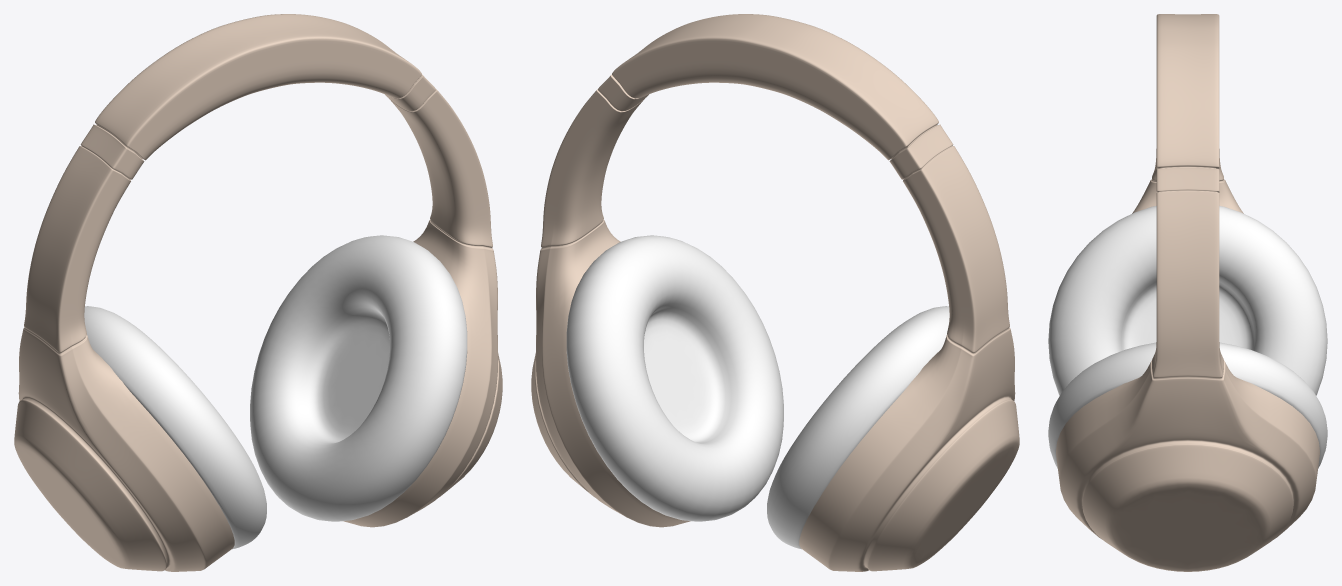
The model's file is headphone_combined.glb.
3 views of the same model, side by side, from view 1: azimuth 30°, elevation 25°; view 2: azimuth 150°, elevation 25°; view 3: azimuth 270°, elevation 25° (orthographic). The views are drawn at different scales.
Visible parts, largest first — view 1: headphone.001; view 2: headphone.001; view 3: headphone.001.
Boxes of the visible parts, x1,y1,x2,y2 form: headphone.001: (14, 14, 502, 571); headphone.001: (531, 14, 1019, 571); headphone.001: (1048, 14, 1327, 571).
Bounding box in the file's own units: 3.7 × 3.97 × 2.09.
